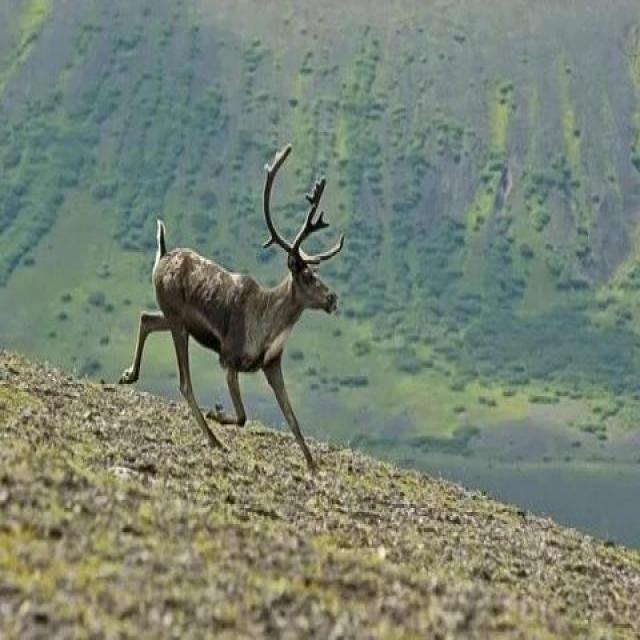deer: (111, 113, 375, 538)
